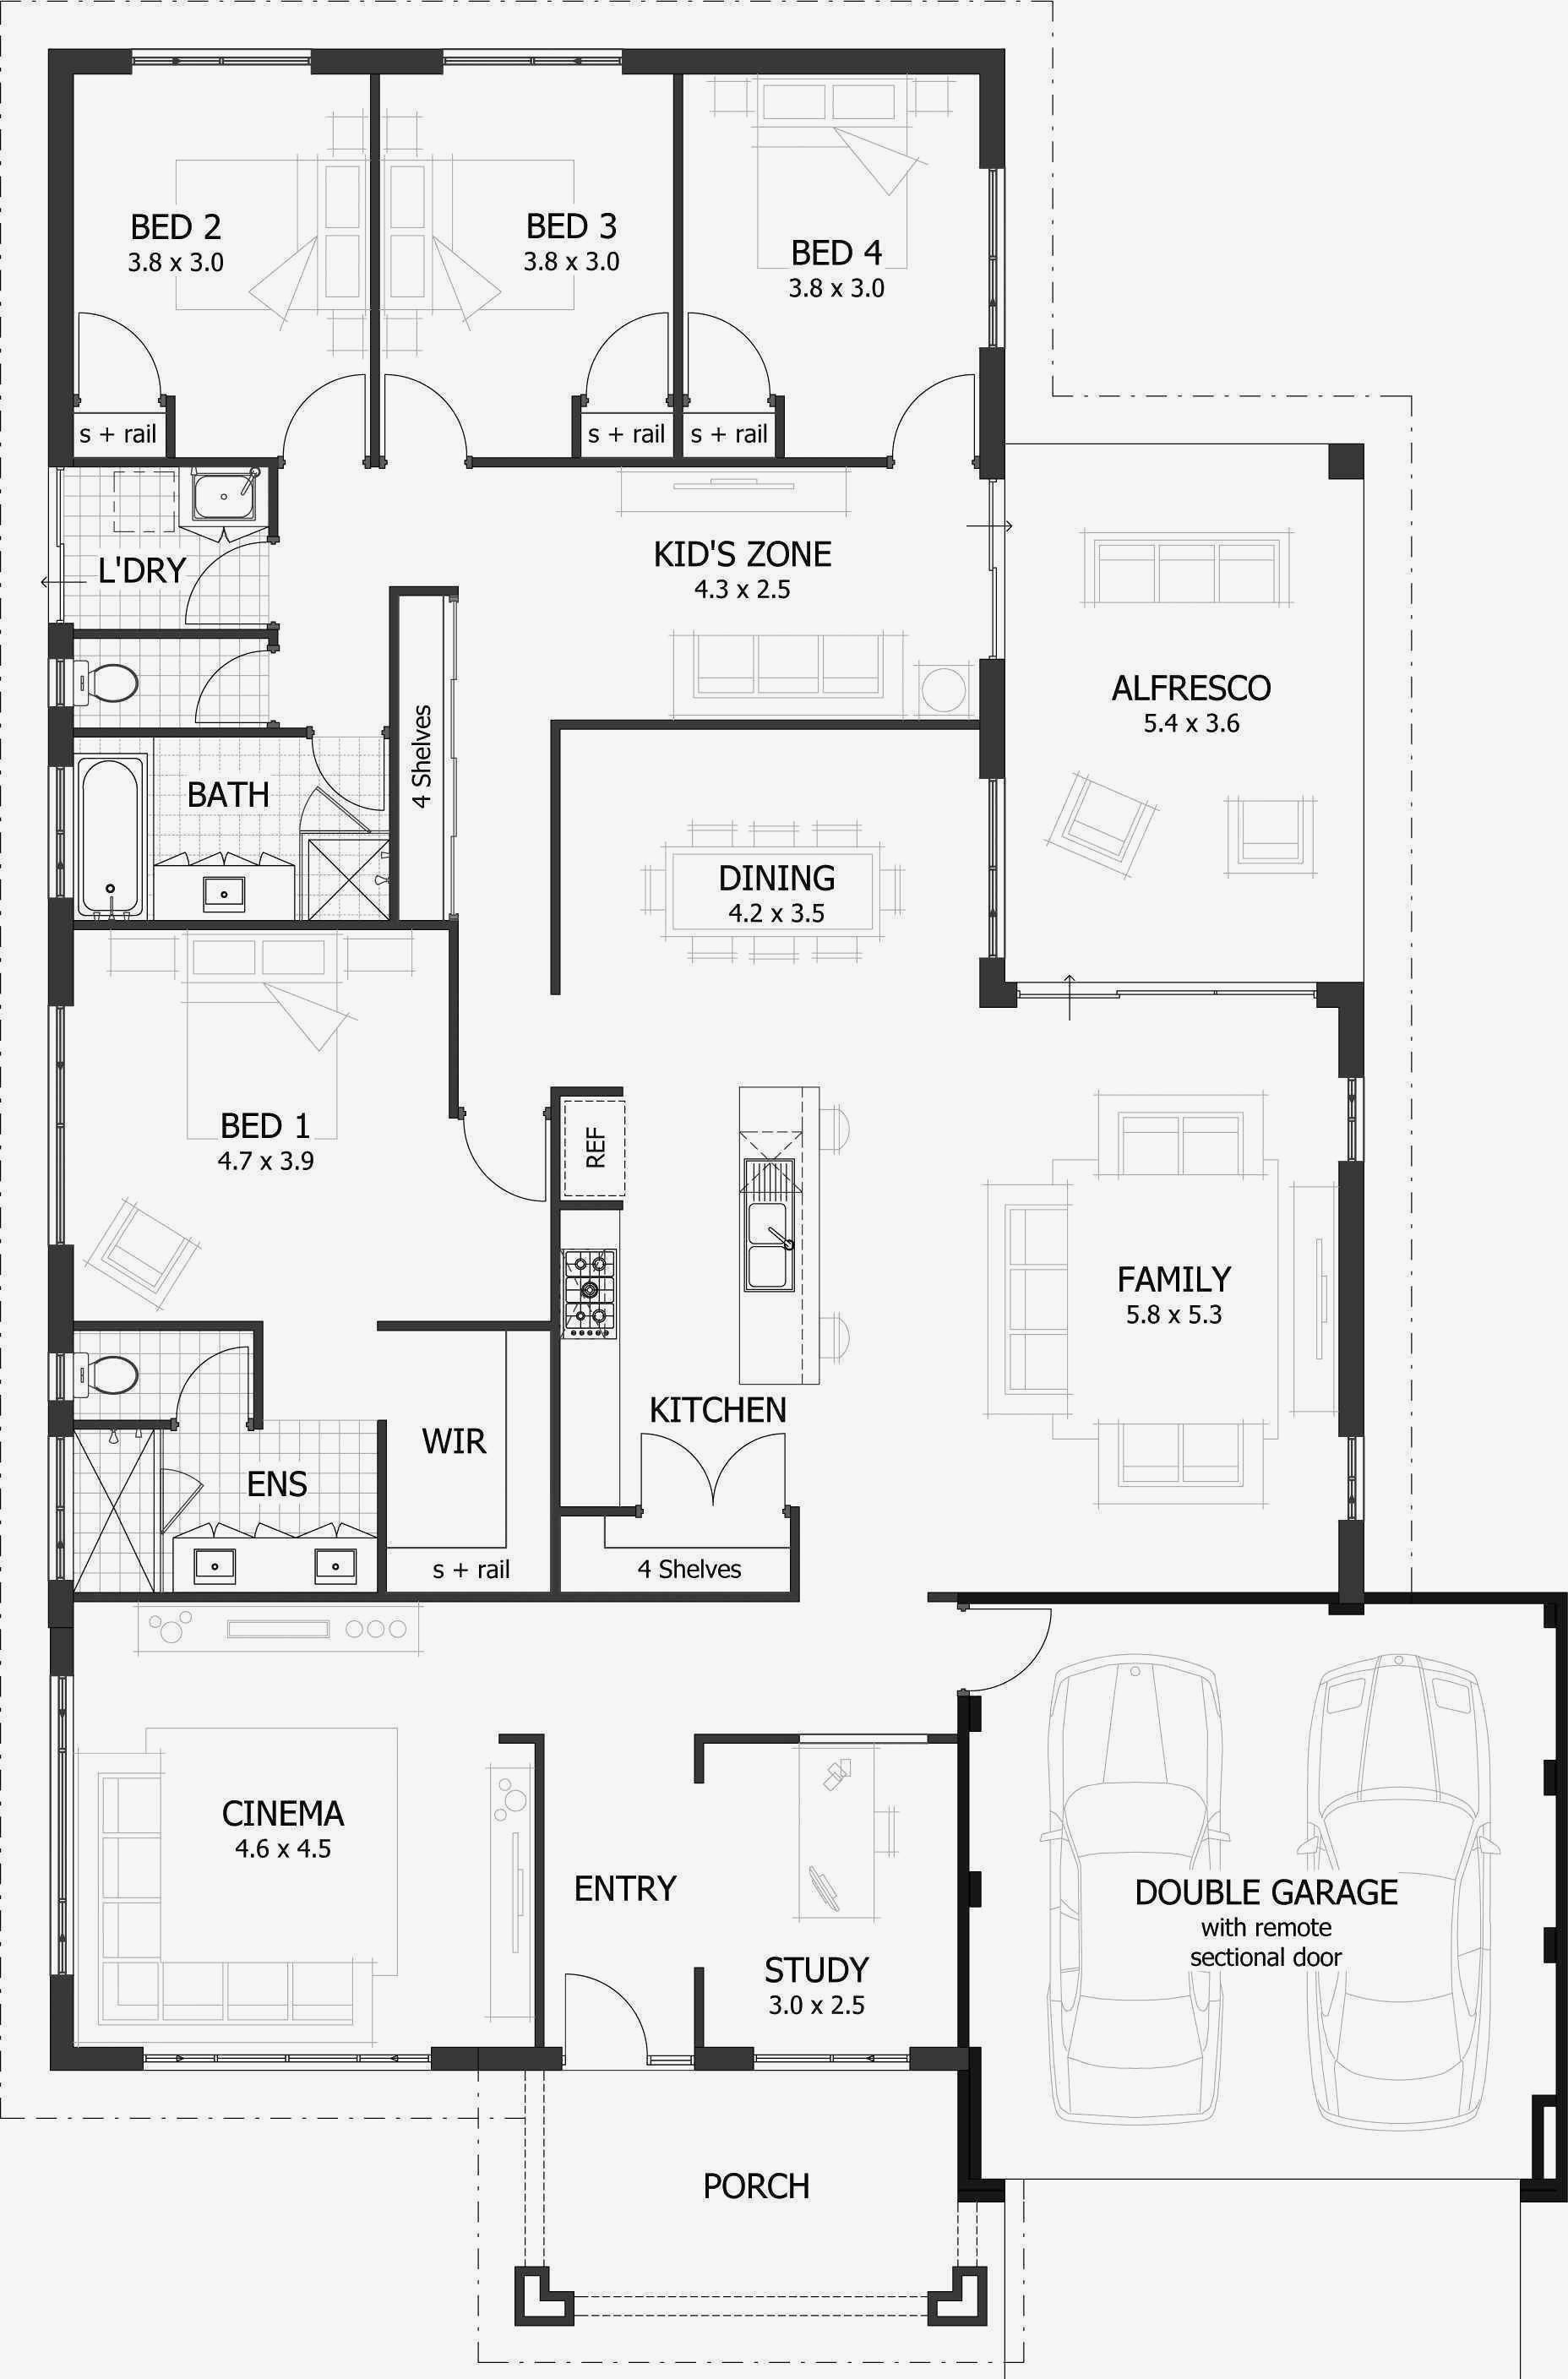door: (632, 1429, 796, 1503), (684, 310, 784, 394), (578, 304, 670, 390), (562, 1964, 649, 2054), (179, 542, 268, 626), (280, 373, 369, 457), (975, 1604, 1055, 1697), (75, 310, 164, 392), (465, 1120, 548, 1207), (382, 369, 469, 451), (893, 371, 976, 453), (173, 1340, 252, 1413), (191, 651, 259, 726), (338, 743, 389, 815), (292, 784, 350, 829)
